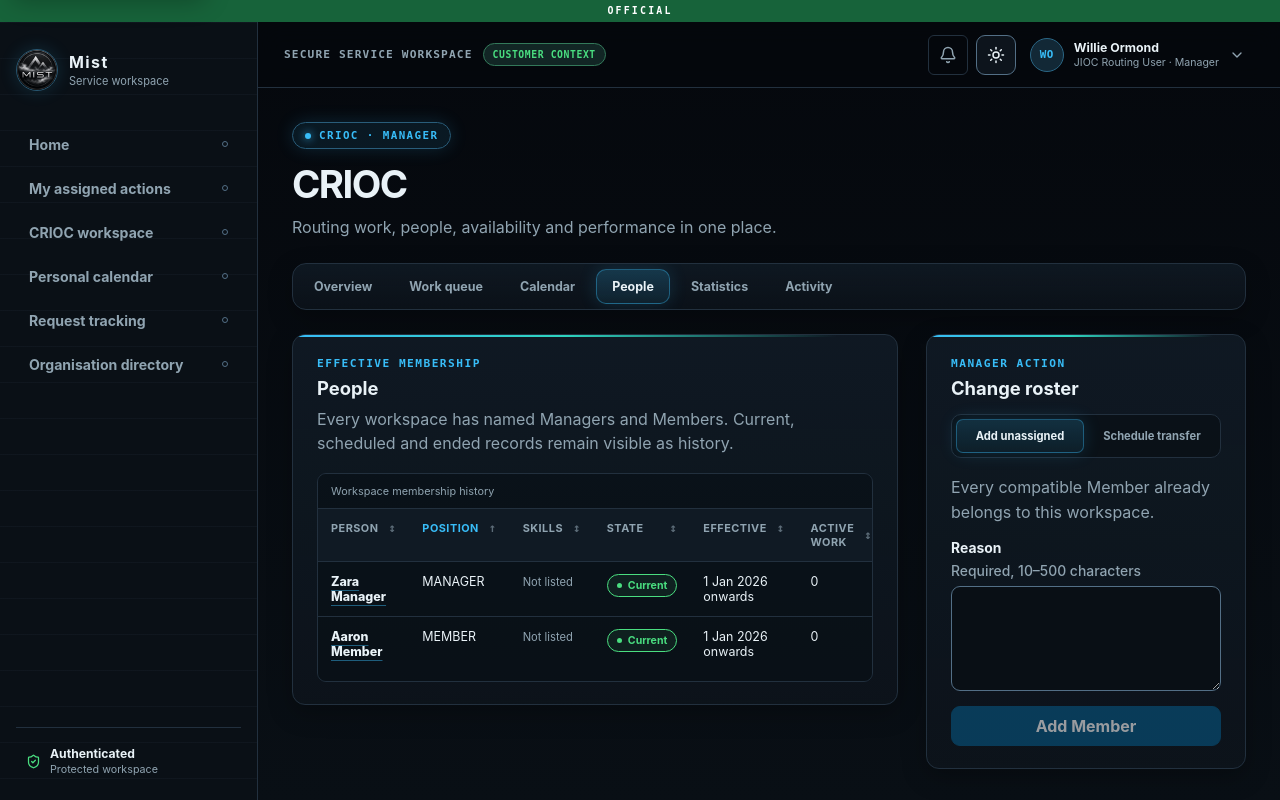
Test: workspace People register › explains an empty roster instead of showing a dead select on the only unit of its kind
The image size is (1280, 800).
Check: the heading "Change roster" is shown, box [951,377,1079,399]
Check: the message reads "Every compatible Member already belongs to this workspace.", box [951,477,1210,522]
Step 1. Click the button "Schedule transfer" → (1152, 436), box [1088,419,1216,453]
(page scrolled)
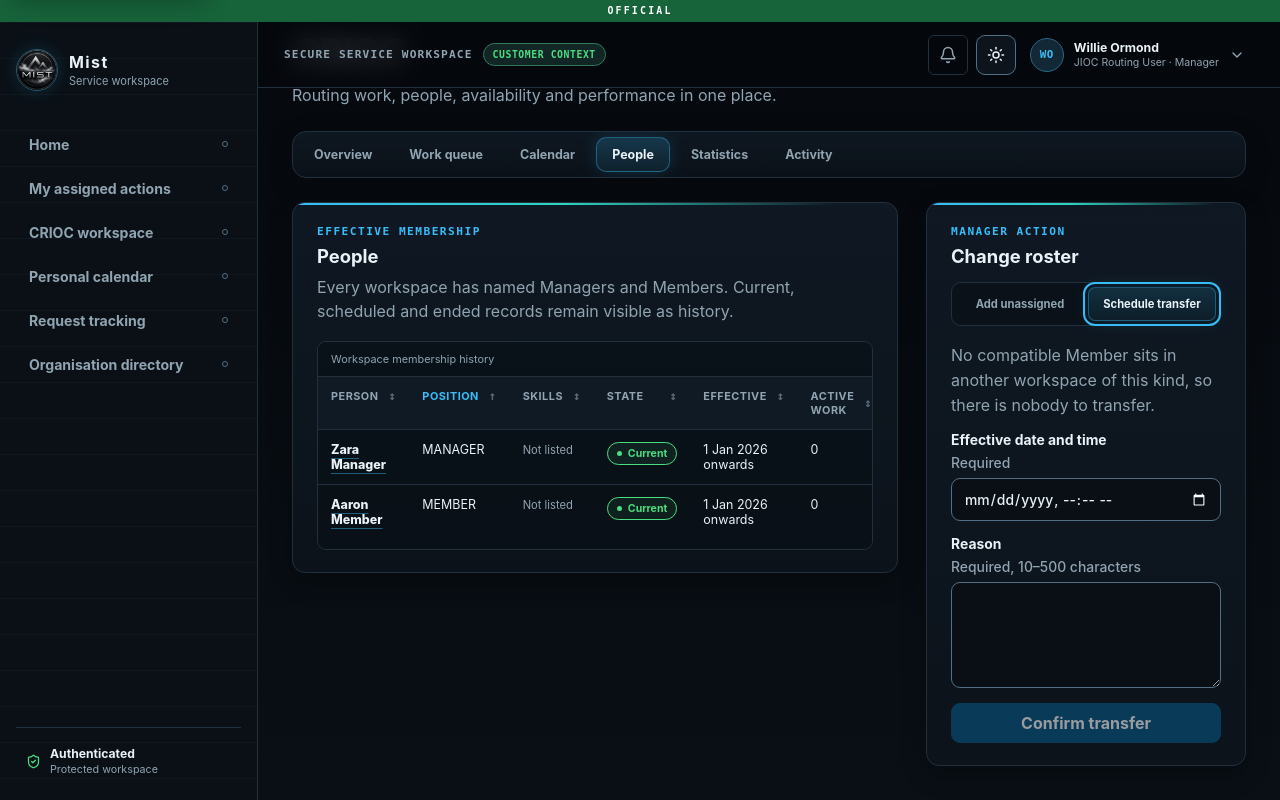
Check: the button "Confirm transfer" is disabled, box [951,703,1221,743]
Check: the message shows "No compatible Member sits in another workspace of this kind, so there is nobody to transfer.", box [951,345,1212,415]
